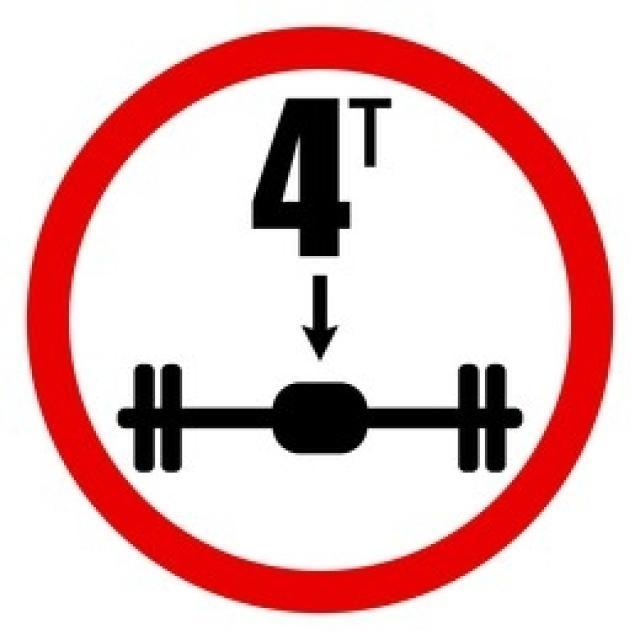axle load limit: (20, 17, 621, 620)
